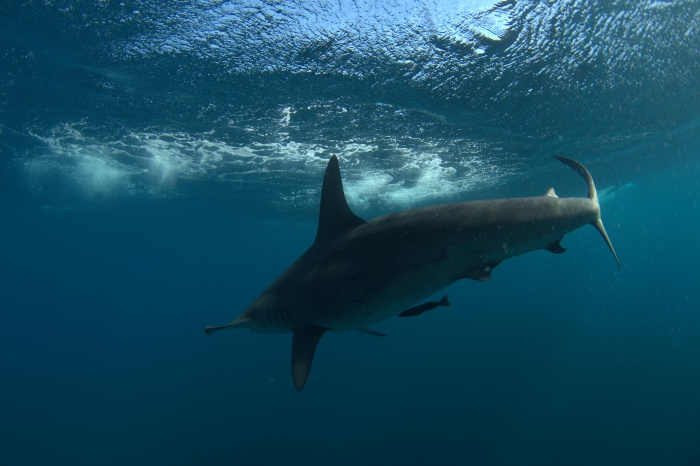Hammer: (181, 144, 638, 418)
